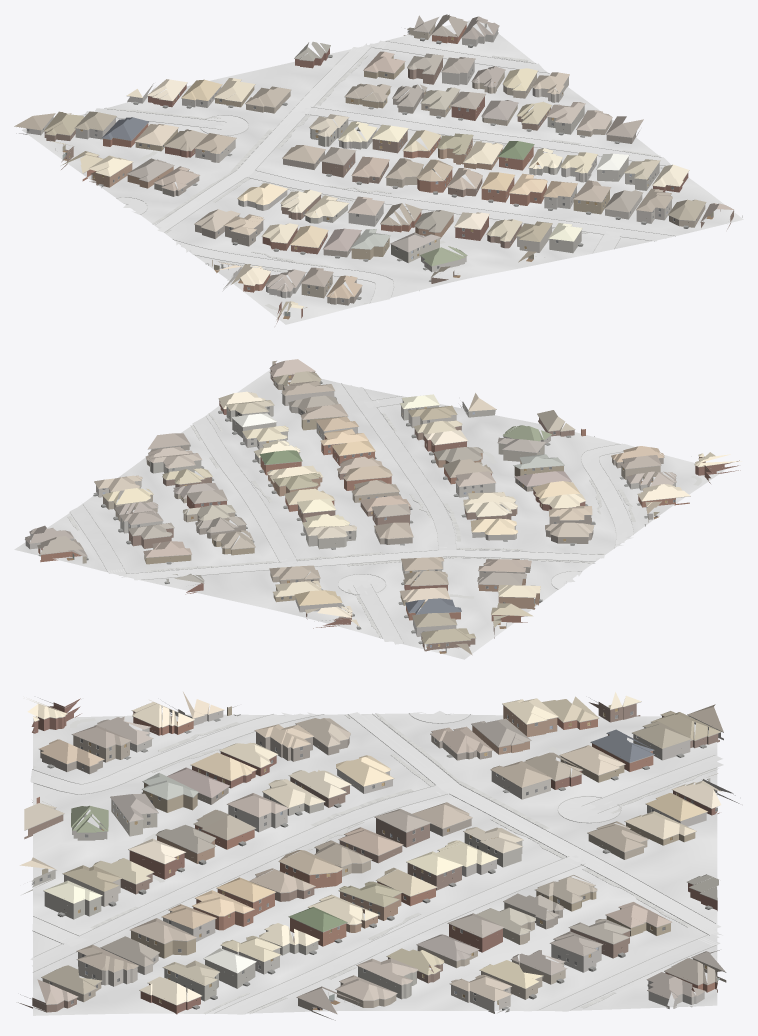
The picture shows the model from 3 angles, top to bottom: view 1: azimuth 30°, elevation 25°; view 2: azimuth 150°, elevation 25°; view 3: azimuth 270°, elevation 25°; orthographic projection. The views are drawn at different scales.
Visible parts, largest first — view 1: ground, roof, wall, concrete, detail, wall_stucco, wall_stone, asphalt, curb, walk, glass; view 2: ground, roof, concrete, wall, detail, asphalt, wall_stucco, curb, walk, wall_stone; view 3: ground, roof, wall, concrete, wall_stucco, detail, asphalt, wall_stone, curb, walk, glass, glass_lit (+1 smaller).
Boxes of the visible parts, x1,y1,x2,y2 form: ground: [22, 20, 743, 324]; roof: [14, 14, 733, 320]; wall: [44, 22, 733, 323]; concrete: [85, 40, 670, 303]; detail: [19, 17, 742, 315]; wall_stucco: [195, 72, 671, 262]; wall_stone: [16, 23, 596, 298]; asphalt: [155, 44, 372, 232]; curb: [84, 41, 675, 303]; walk: [105, 55, 663, 310]; glass: [27, 30, 696, 301]; ground: [14, 370, 724, 659]; roof: [25, 359, 741, 655]; concrete: [69, 385, 634, 644]; wall: [38, 360, 740, 651]; detail: [25, 369, 732, 653]; asphalt: [122, 550, 604, 580]; wall_stucco: [96, 389, 544, 579]; curb: [69, 383, 633, 643]; walk: [67, 412, 702, 638]; wall_stone: [25, 423, 675, 636]; ground: [33, 713, 717, 1015]; roof: [19, 692, 725, 1014]; wall: [18, 698, 726, 1020]; concrete: [30, 711, 723, 1014]; wall_stucco: [22, 771, 565, 1013]; detail: [20, 698, 735, 1012]; asphalt: [348, 712, 720, 937]; wall_stone: [72, 706, 739, 1008]; curb: [32, 713, 717, 1014]; walk: [33, 713, 718, 1013]; glass: [32, 711, 717, 1003]; glass_lit: [78, 708, 706, 1002].
Bounding box in the file's own units: 269 × 15.52 × 267.
